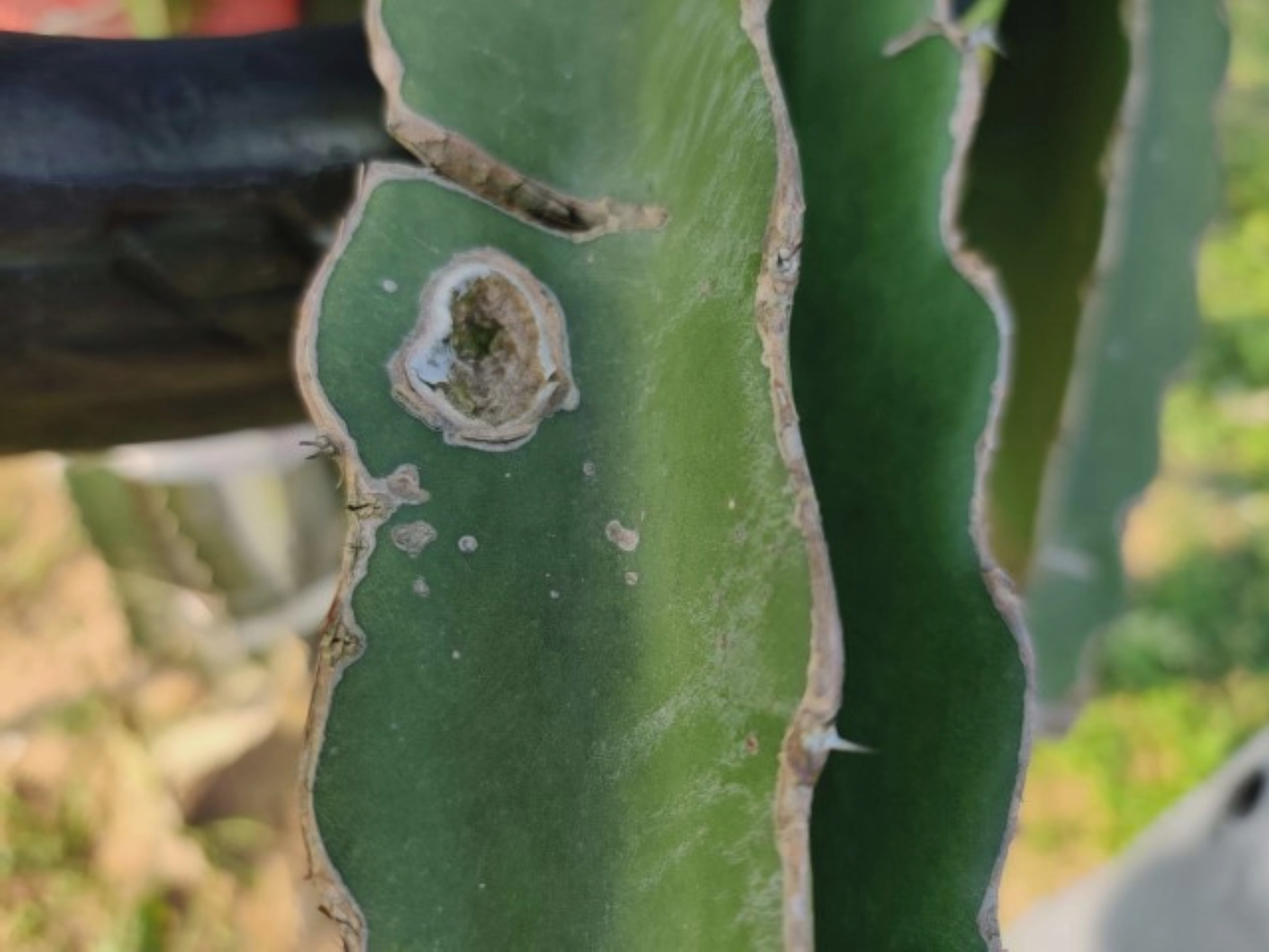stemcanker: (252, 61, 679, 565)
